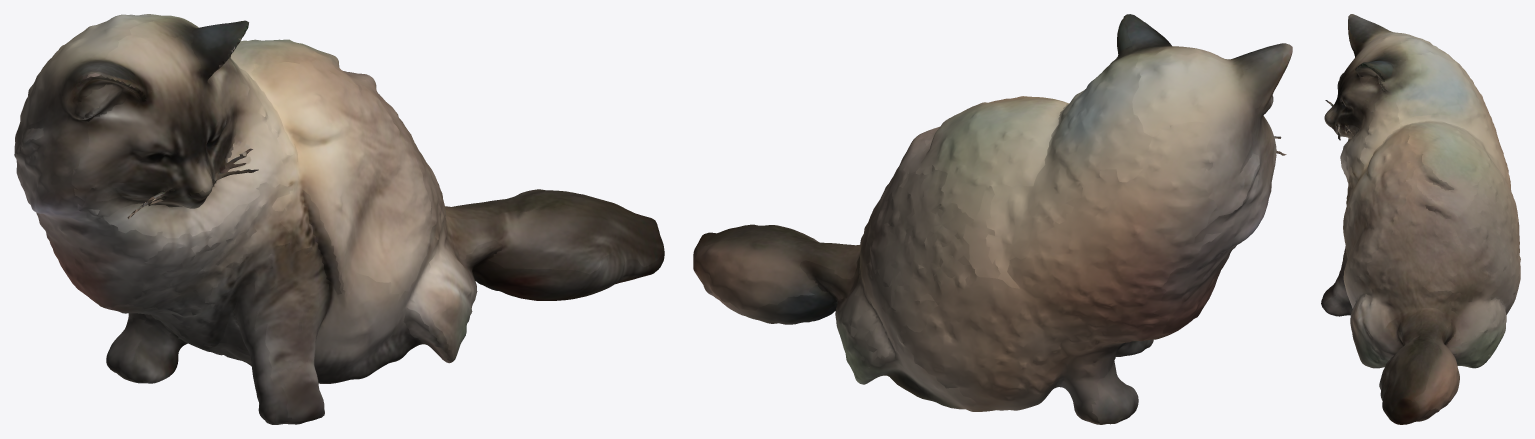
The model's file is prisca.glb.
3 views of the same model, side by side, from view 1: azimuth 30°, elevation 25°; view 2: azimuth 150°, elevation 25°; view 3: azimuth 270°, elevation 25° (orthographic). The views are drawn at different scales.
Parts seen in each view (by area): view 1: tmpap1ddshi.ply; view 2: tmpap1ddshi.ply; view 3: tmpap1ddshi.ply.
Boxes of the visible parts, box(x1,y1,x2,y2) form: tmpap1ddshi.ply: box(14, 14, 664, 424); tmpap1ddshi.ply: box(693, 14, 1292, 424); tmpap1ddshi.ply: box(1321, 14, 1520, 424).
Size of the model in its own units: 1.96 by 1.18 by 0.8797.
Materials: 1 (1 with a texture image).
